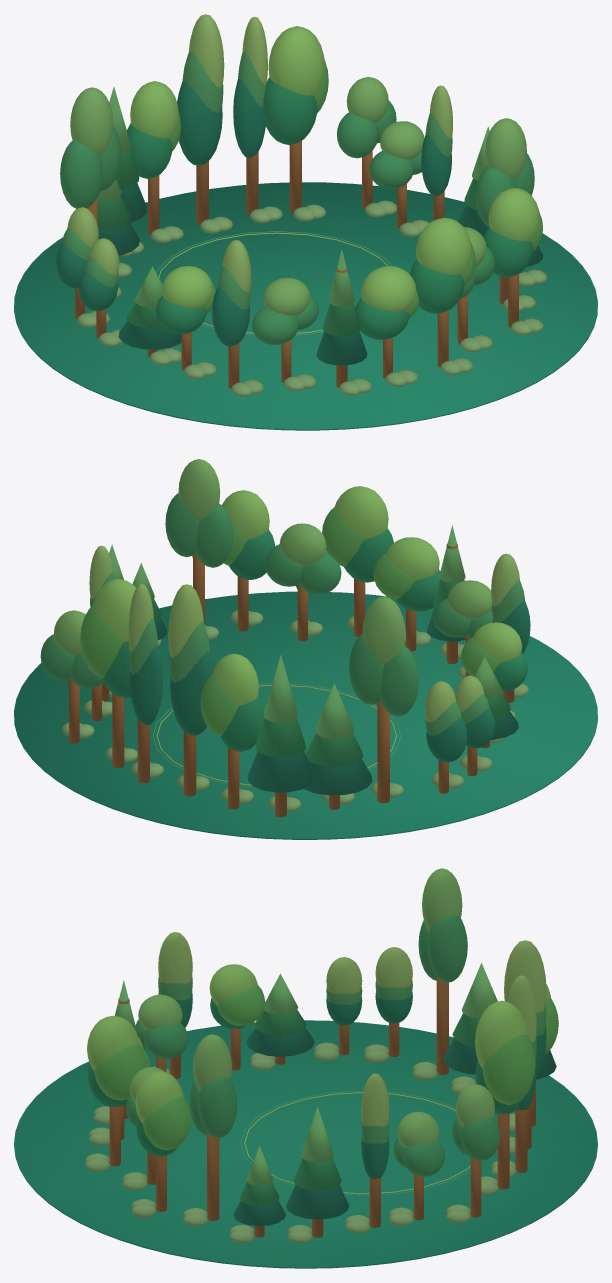
The model's file is forest.glb.
The picture shows the model from 3 angles, top to bottom: view 1: azimuth 30°, elevation 25°; view 2: azimuth 150°, elevation 25°; view 3: azimuth 270°, elevation 25°; orthographic projection.
Visible parts, largest first — view 1: world; view 2: world; view 3: world.
Boxes of the visible parts, left/top/right/bottom form: world: left=14, top=14, right=597, bottom=430; world: left=14, top=459, right=597, bottom=839; world: left=14, top=868, right=597, bottom=1268.
Bounding box in the file's own units: 10 × 3.97 × 10.
